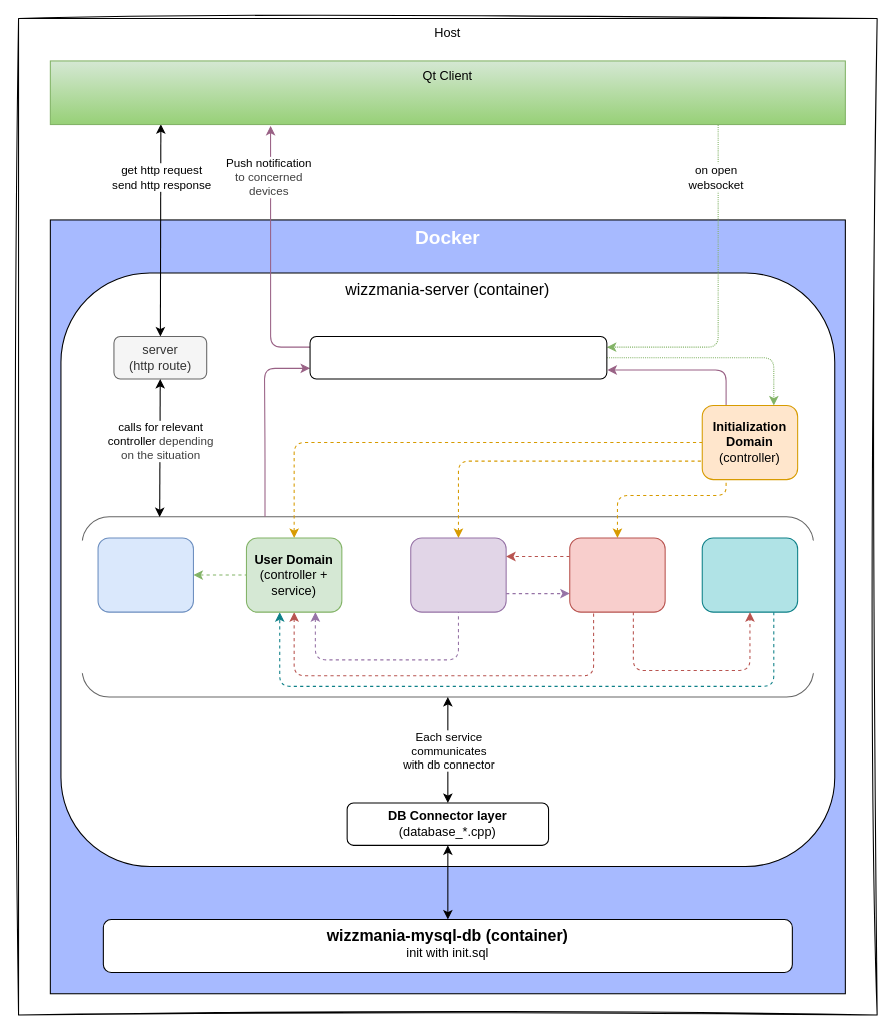
The diagram is 896 pixels wide and 1034 high, and some of its shapes have lost their labels. The centre of each missing label's shape, as x and y in pixels:
Auth Domain (controller + service): (145,574)
Channel Domain (controller + service): (458,574)
Invitation Domain (controller + service): (617,574)
Message Domain (controller + service): (749,574)
websocket Manager: (458,357)
